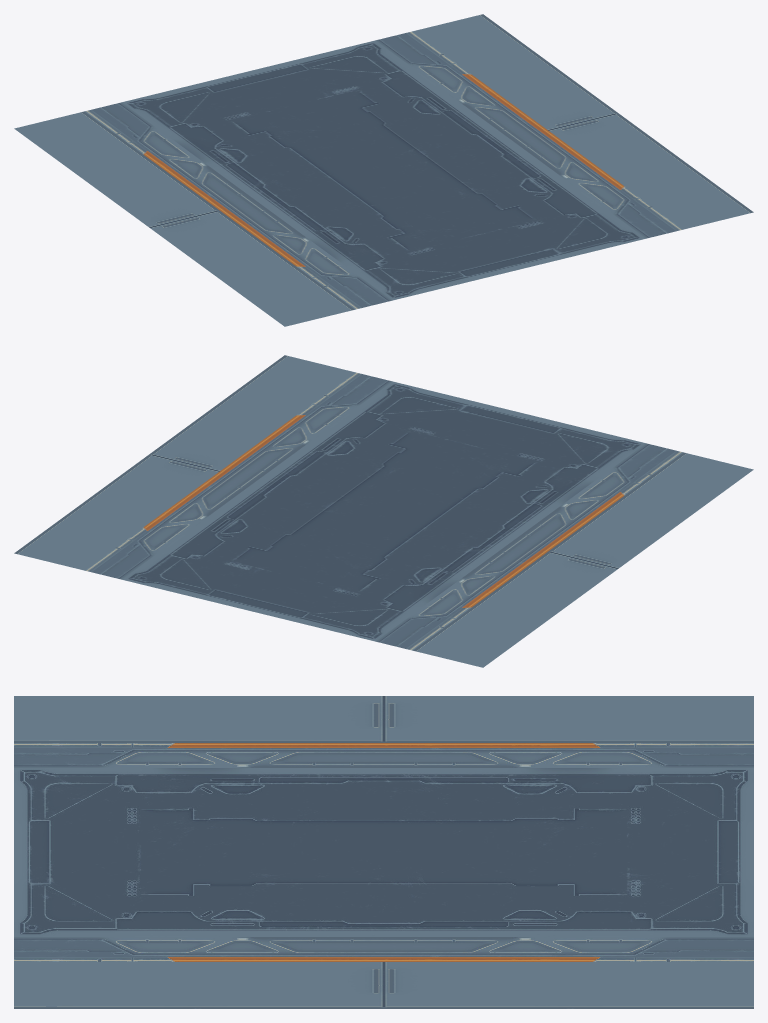
The model's file is Platform_CenterPlate.gltf.
The picture shows the model from 3 angles, top to bottom: view 1: azimuth 30°, elevation 25°; view 2: azimuth 150°, elevation 25°; view 3: azimuth 270°, elevation 25°; orthographic projection. The views are drawn at different scales.
Parts seen in each view (by area): view 1: Platform_CenterPlate; view 2: Platform_CenterPlate; view 3: Platform_CenterPlate.
Part boxes in pixels (box(x1,y1,x2,y2)): Platform_CenterPlate: box(14, 14, 753, 326); Platform_CenterPlate: box(14, 355, 753, 667); Platform_CenterPlate: box(14, 696, 753, 1008).
Size of the model in its own units: 4 by 2.84e-14 by 4.
2 materials, 2 textured.
